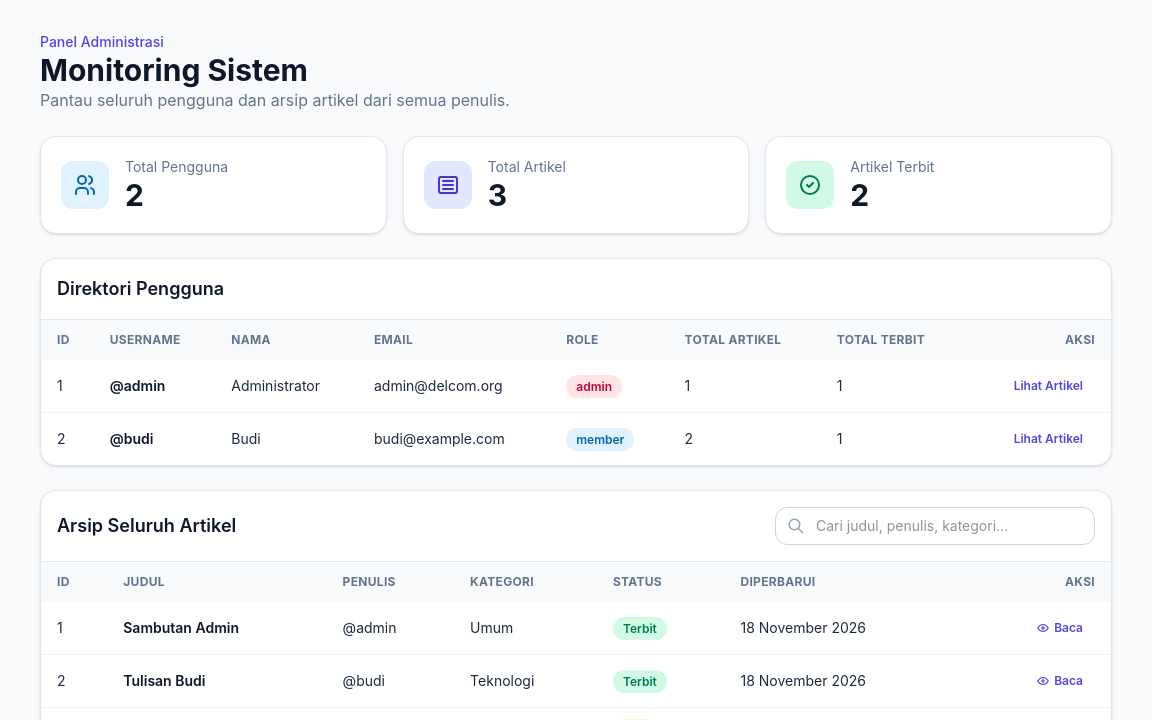
it: AdminDashboard › melihat artikel milik pengguna tertentu lalu kembali ke semua
Click the button "Lihat Artikel" in the row of "budi@example.com".
click(1048, 439)  # box [1002, 425, 1095, 453]
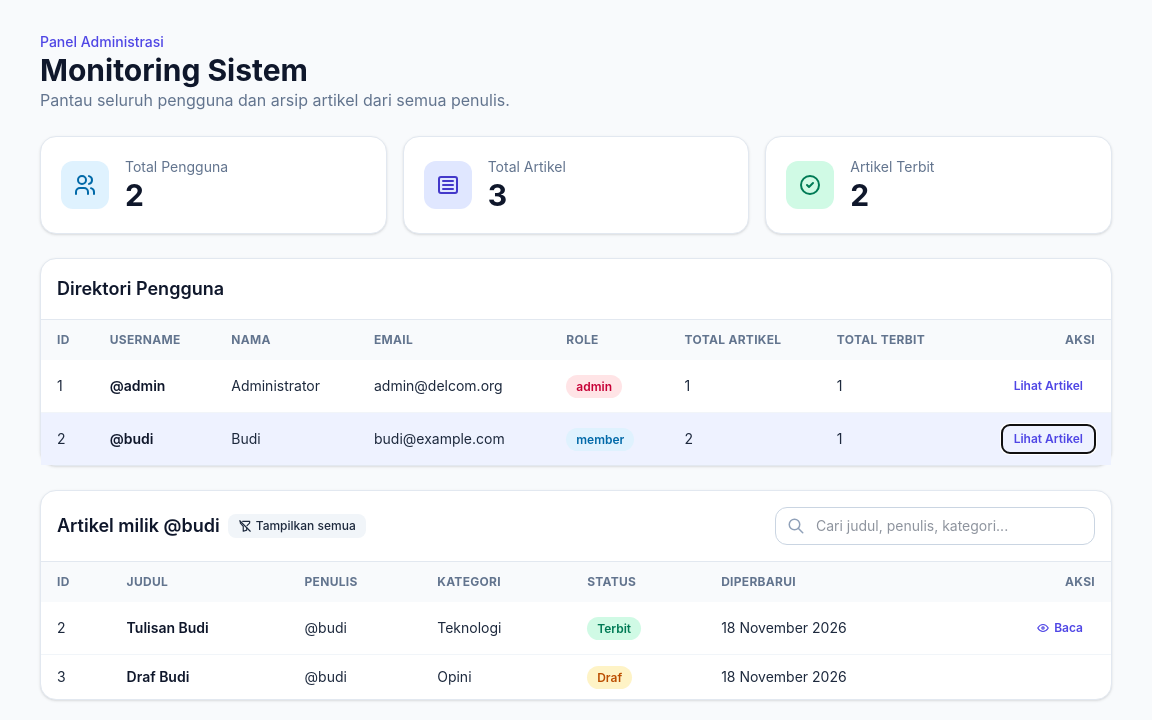
Check: the heading "Artikel milik @budi" is shown, box [57, 512, 220, 540]
Check: the text "Sambutan Admin" is gone
Click the button "Tampilkan semua".
click(297, 526)  # box [228, 514, 366, 538]
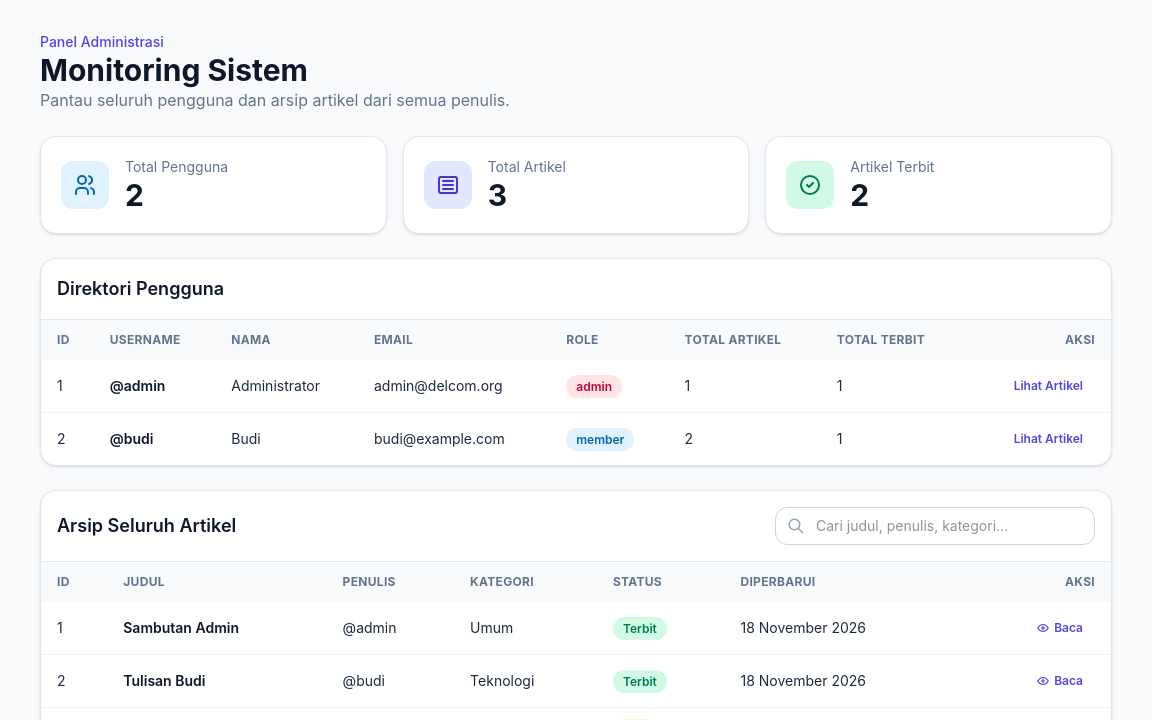
Check: the heading "Arsip Seluruh Artikel" is shown, box [57, 512, 236, 540]
Check: the text "Sambutan Admin" is shown, box [107, 602, 327, 654]
